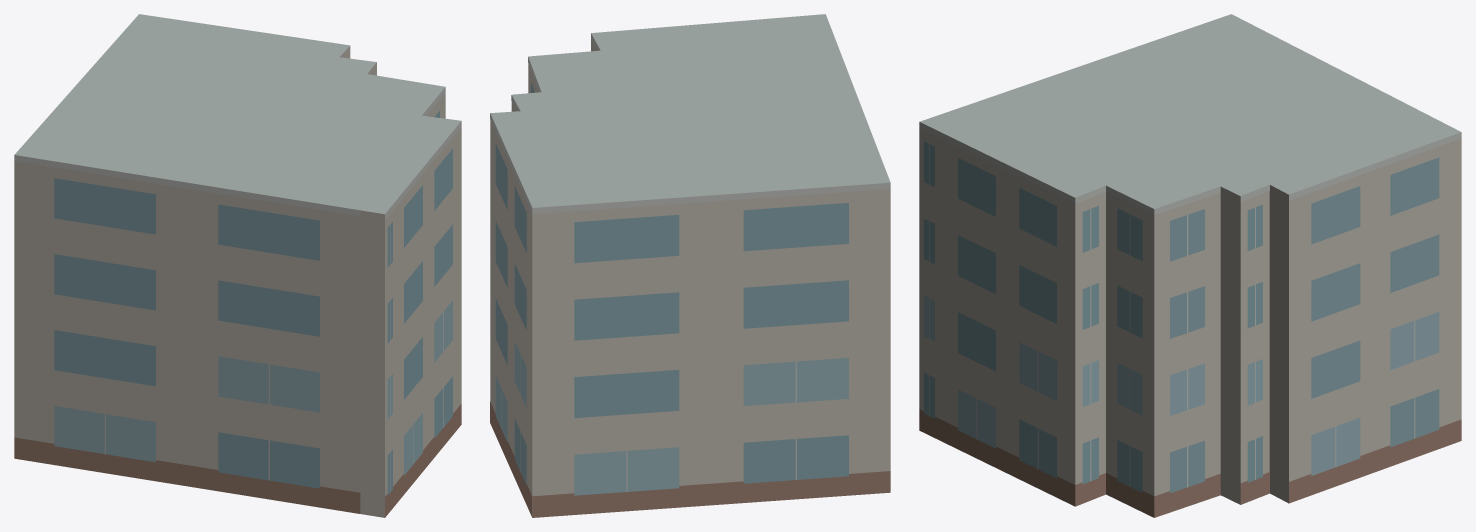
Rendered from survey-upis-32843174.glb.
3 views of the same model, side by side, from view 1: azimuth 30°, elevation 25°; view 2: azimuth 150°, elevation 25°; view 3: azimuth 270°, elevation 25° (orthographic). The views are drawn at different scales.
Parts seen in each view (by area): view 1: survey-upis-32843174.tmp; view 2: survey-upis-32843174.tmp; view 3: survey-upis-32843174.tmp.
Part boxes in pixels (x1,y1,x2,y2): survey-upis-32843174.tmp: (14,14,461,517); survey-upis-32843174.tmp: (490,14,890,517); survey-upis-32843174.tmp: (919,14,1461,517).
Bounding box in the file's own units: 16.54 × 12.2 × 19.42.
